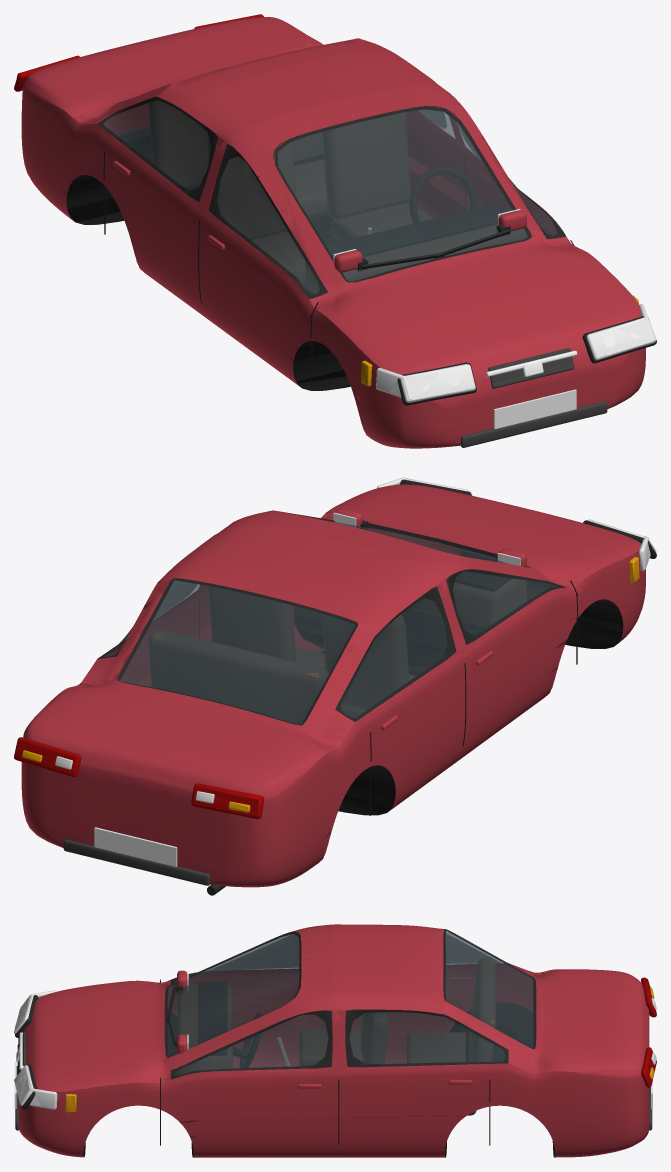
The model's file is priora.glb.
3 renders of one model, top to bottom at view 1: azimuth 30°, elevation 25°; view 2: azimuth 150°, elevation 25°; view 3: azimuth 270°, elevation 25°, orthographic. The views are drawn at different scales.
Visible parts, largest first — view 1: LOD_hi, LOD0; view 2: LOD_hi, LOD0; view 3: LOD_hi, LOD0.
Boxes of the visible parts, x1=… form: LOD_hi: x1=14, y1=14, x2=656, y2=448; LOD0: x1=15, y1=15, x2=654, y2=448; LOD_hi: x1=14, y1=477, x2=656, y2=895; LOD0: x1=17, y1=478, x2=654, y2=894; LOD_hi: x1=14, y1=924, x2=656, y2=1157; LOD0: x1=15, y1=924, x2=654, y2=1157.
Size of what is drawn, in the model's own units: 1.74 by 1.23 by 4.43.
